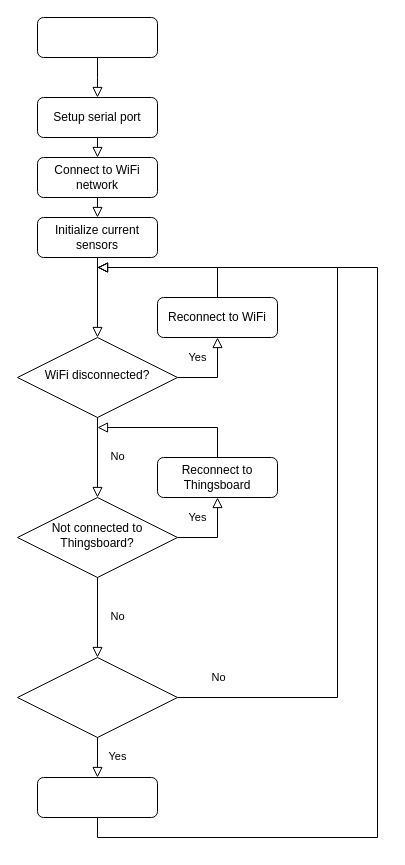
The diagram is 405 pixels wide and 865 high, and some of its shapes have lost their labels. The shapes that lost their labels are listed below. From the top down, each one's centre as x and y in pixels, then its label:
At (97,37): "Start".
At (97,697): "Is it time to send data ?".
At (97,797): "Send data to Thingsboard".
